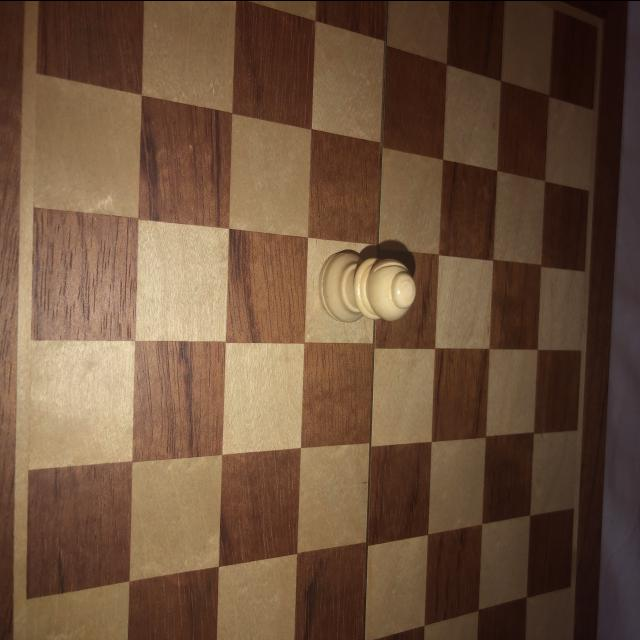white_bishop: (321, 248, 418, 322)
